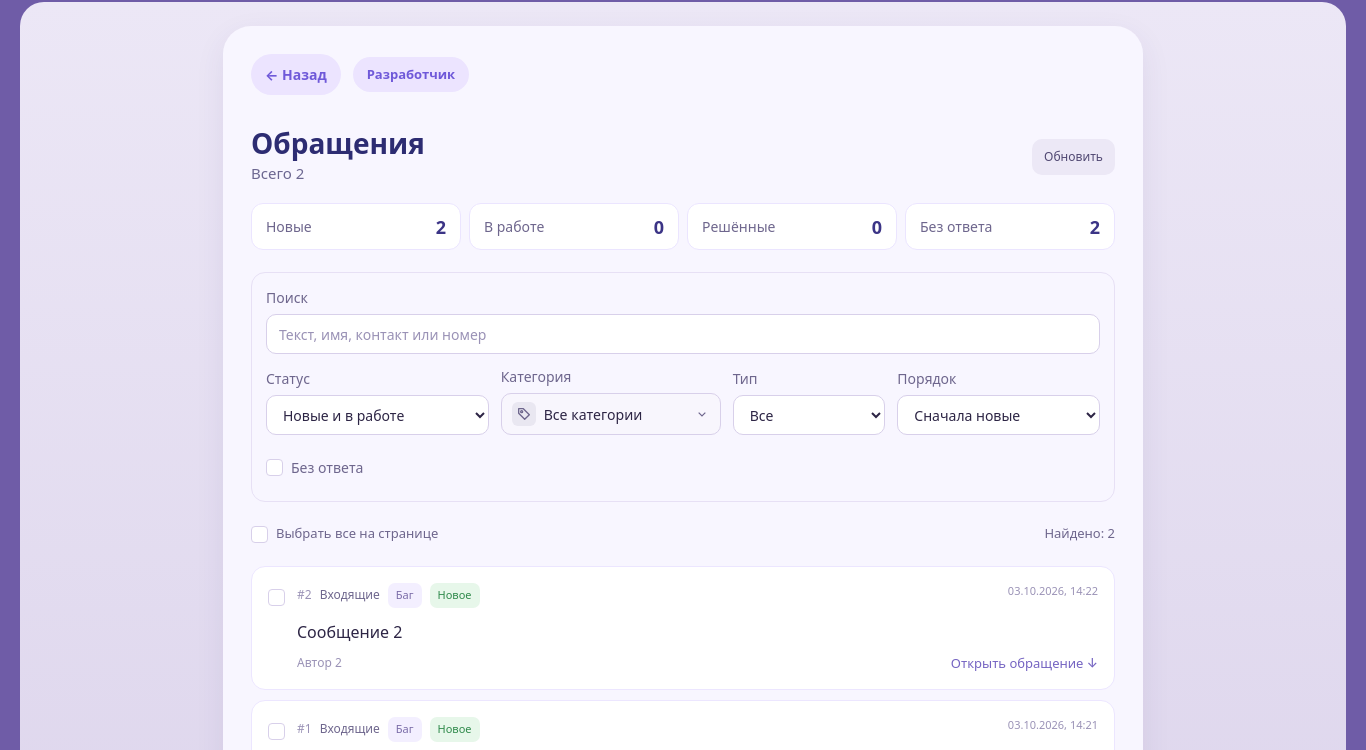
Scenario: shows bulk actions only while records are selected
Click the checkbox named "Выбрать обращение #1": click(276, 732) x1=268 y1=723 x2=285 y2=740
(page scrolled)
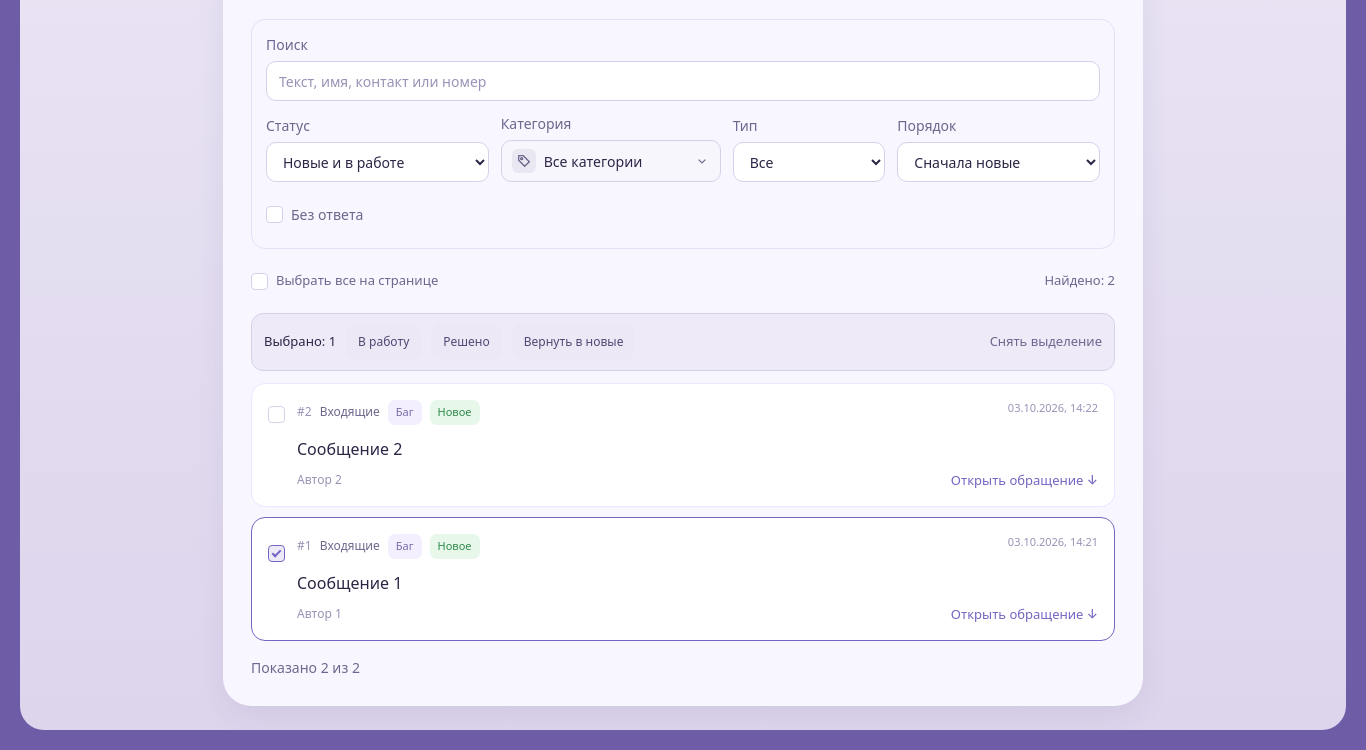
Expected: the element with class "is-selected" is shown, x1=251 y1=517 x2=1115 y2=641
Now the element with class "admin-bulk-toolbar" shows "Выбрано: 1", box x1=251 y1=313 x2=1115 y2=371
Click the checkbox named "Выбрать обращение #1": click(276, 554) x1=268 y1=545 x2=285 y2=562
(page scrolled)
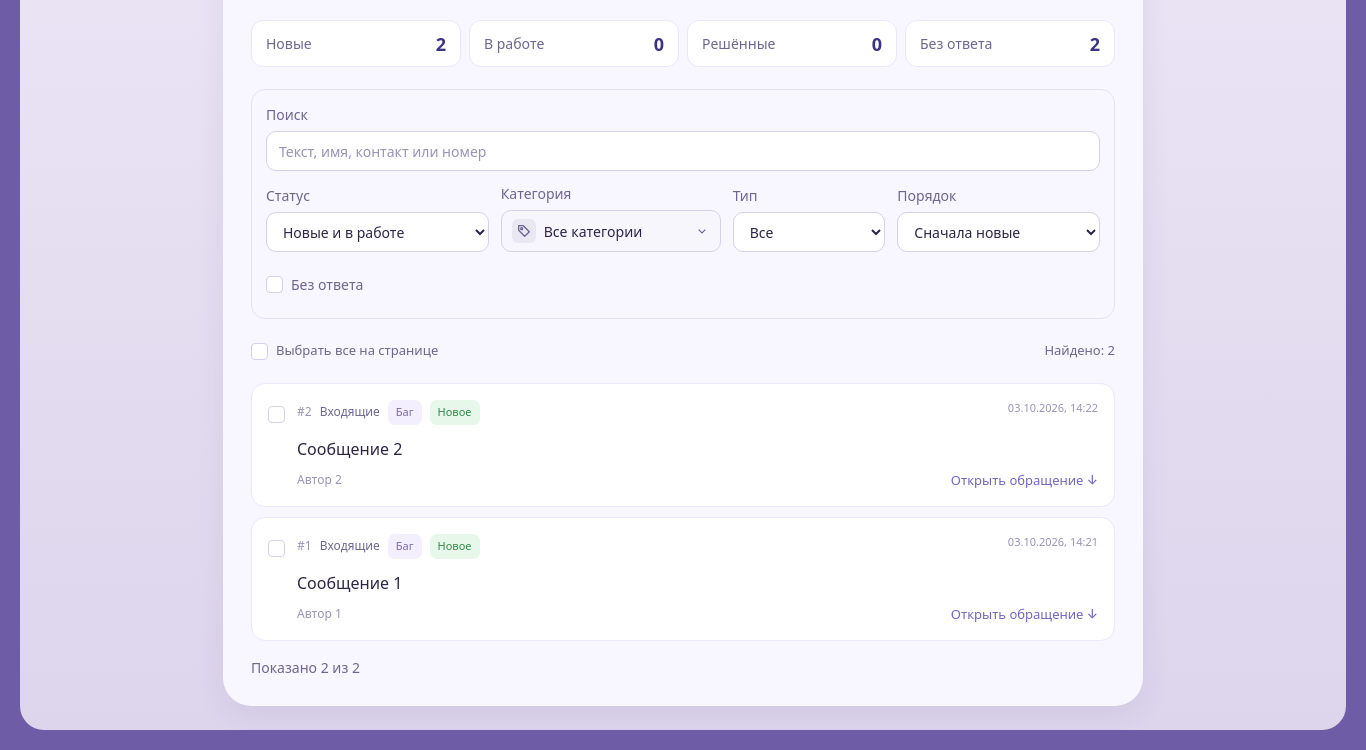
Now the element with class "admin-bulk-toolbar" is gone
Click the checkbox named "Выбрать показанные обращения": click(260, 351) x1=251 y1=343 x2=268 y2=360
(page scrolled)
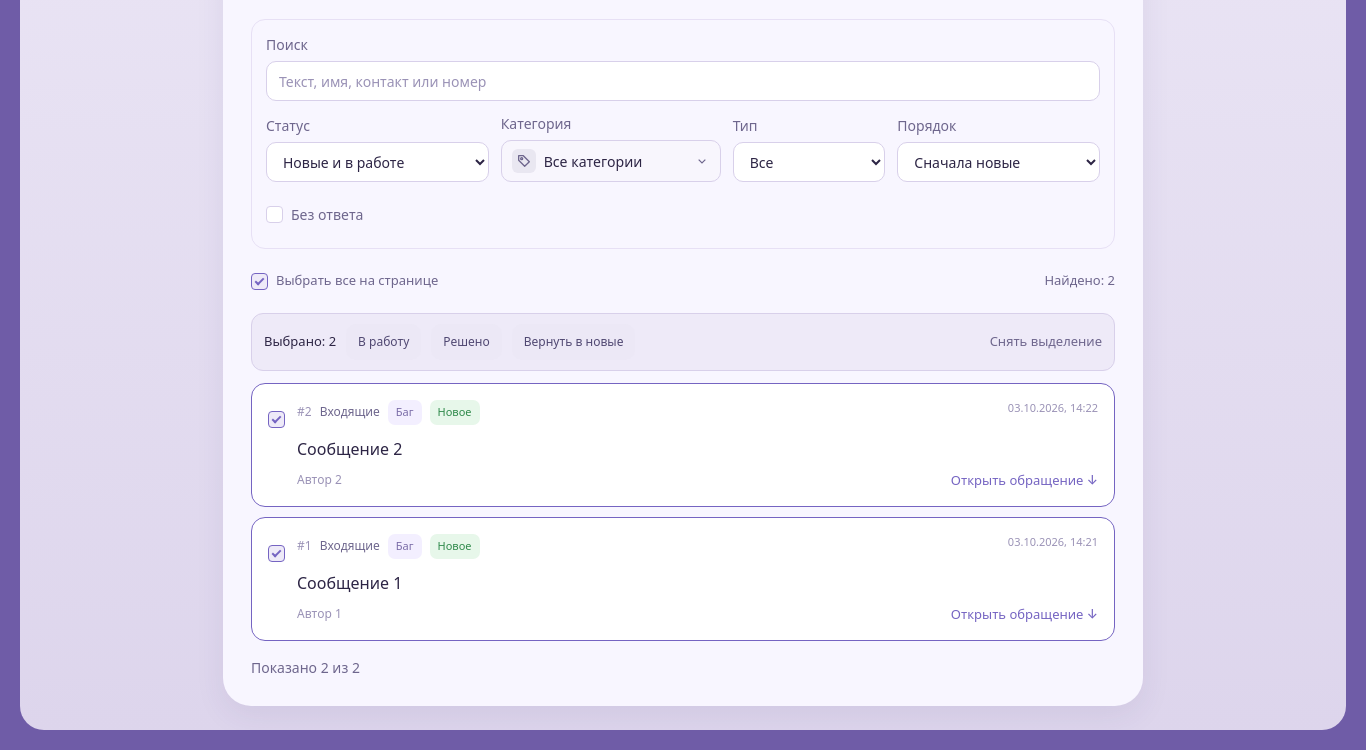
Click the button "Снять выделение": click(1046, 342) x1=990 y1=332 x2=1102 y2=352
(page scrolled)
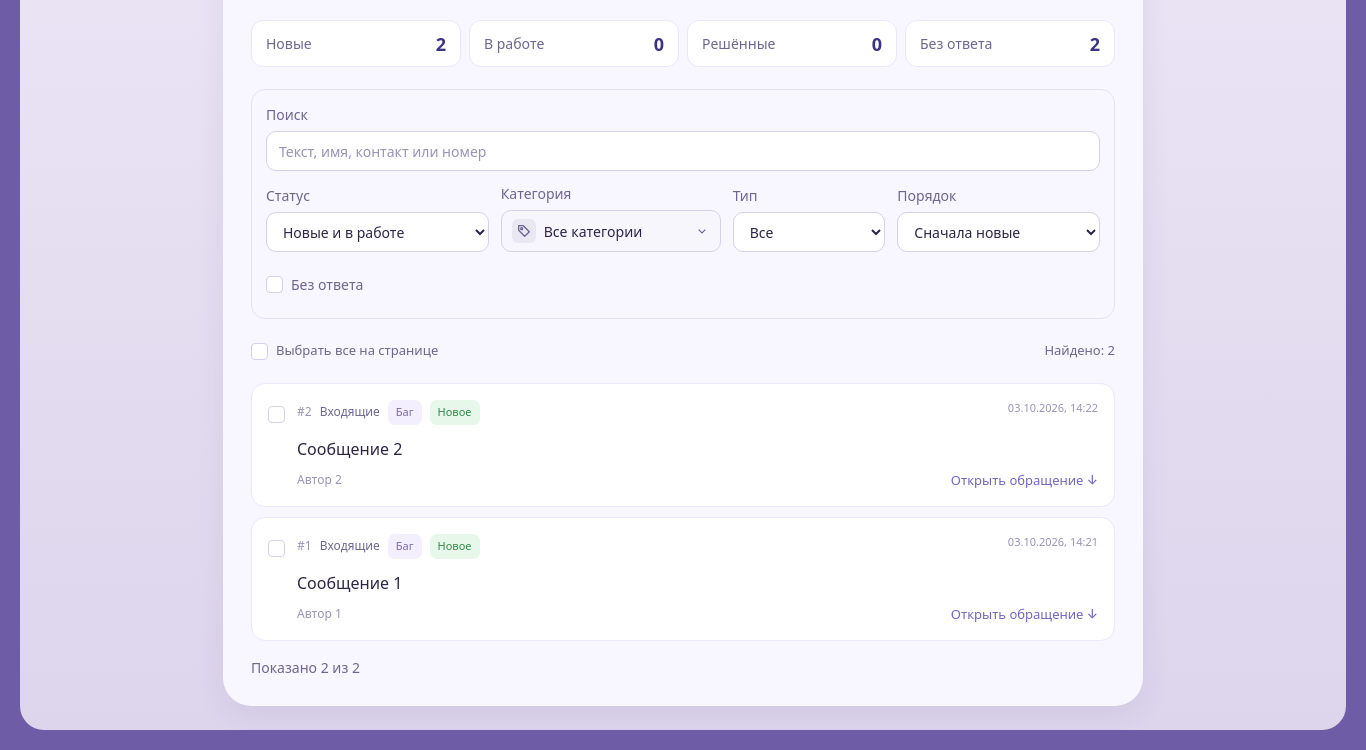
Now the element with class "admin-bulk-toolbar" is gone
